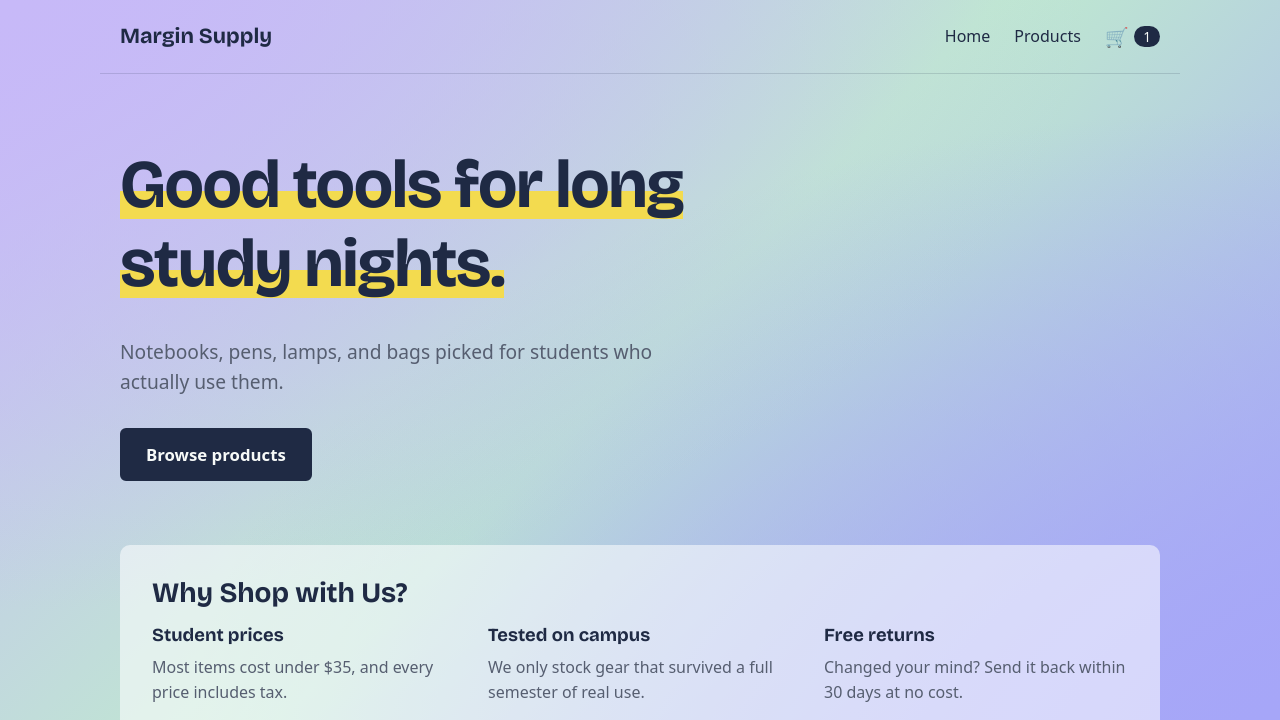
App › saves cart changes to localStorage when an item is removed
Click the link named "cart, 1 items" at [1132, 37], box [1105,22,1160,52]
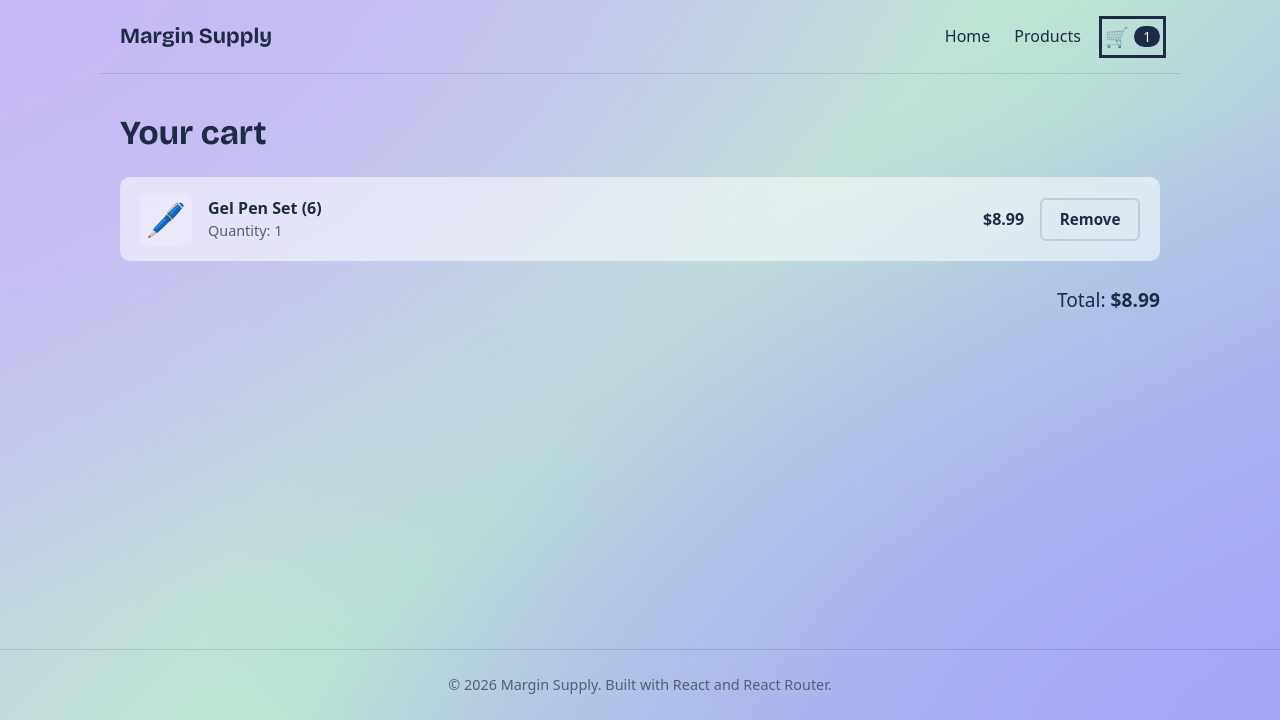
Click the button with aria-label "remove gel pen set" at [1090, 219], box [1040,198,1140,241]
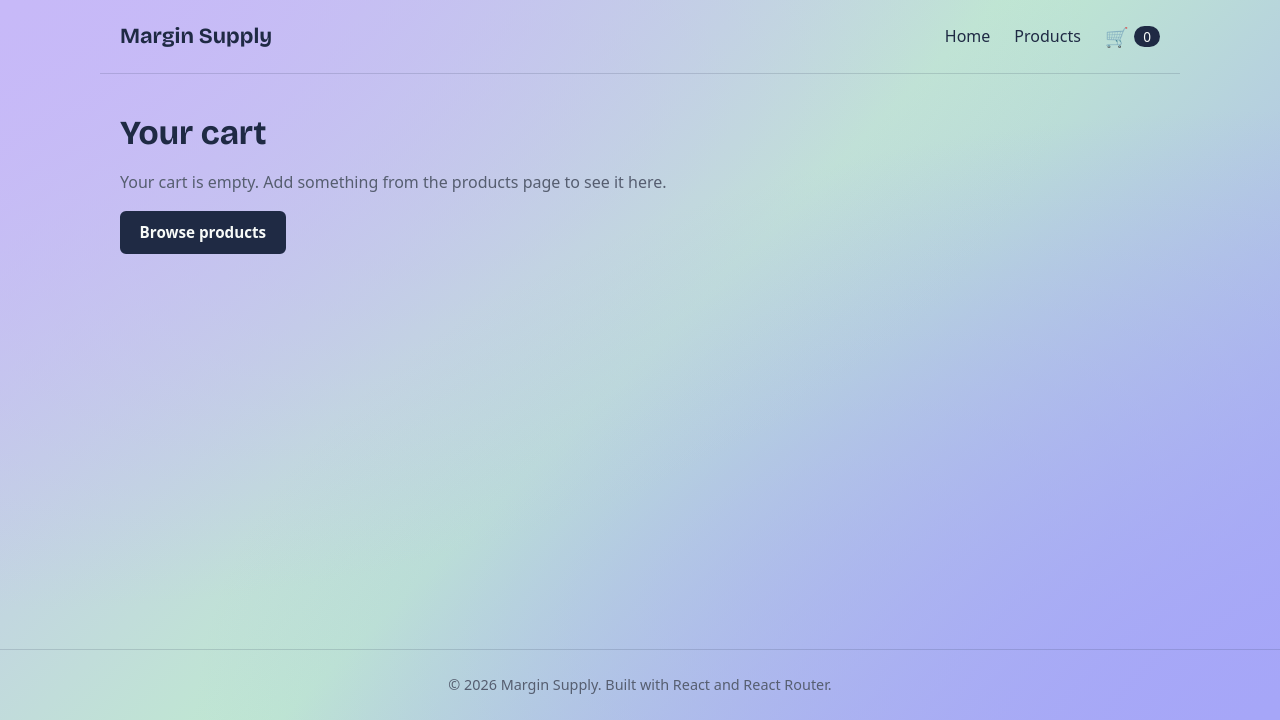
Expected: the text "Your cart is empty" is shown, [120,171,666,193]
